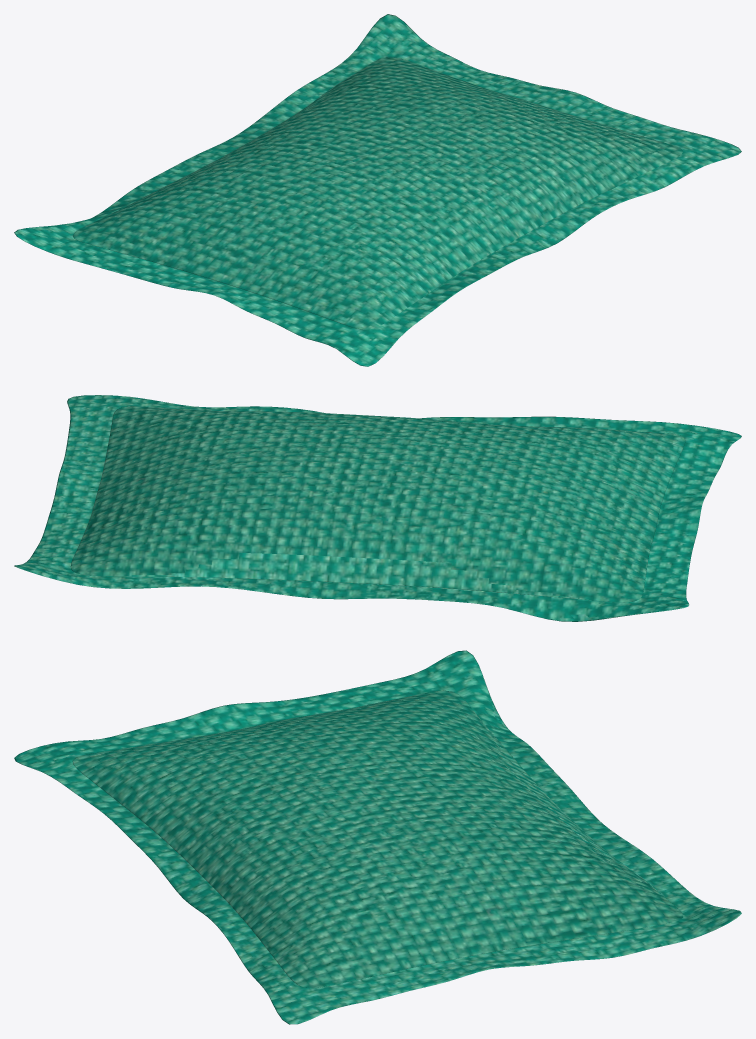
The model's file is puebla.gltf.
The picture shows the model from 3 angles, top to bottom: view 1: azimuth 30°, elevation 25°; view 2: azimuth 150°, elevation 25°; view 3: azimuth 270°, elevation 25°; orthographic projection. The views are drawn at different scales.
Visible parts, largest first — view 1: Plane.000; view 2: Plane.000; view 3: Plane.000.
Part boxes in pixels (bbox=[...]): Plane.000: bbox=[14, 14, 741, 366]; Plane.000: bbox=[14, 395, 741, 621]; Plane.000: bbox=[14, 650, 741, 1024].
Bounding box in the file's own units: 10.08 × 1.27 × 8.76.
1 material, 1 textured.
